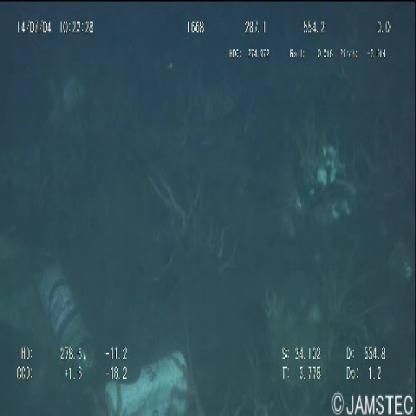Rác: (106, 352, 194, 415)
